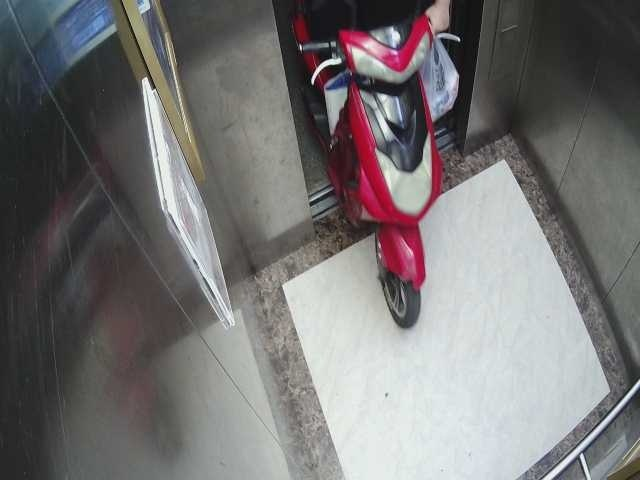emotor: (290, 3, 451, 333)
